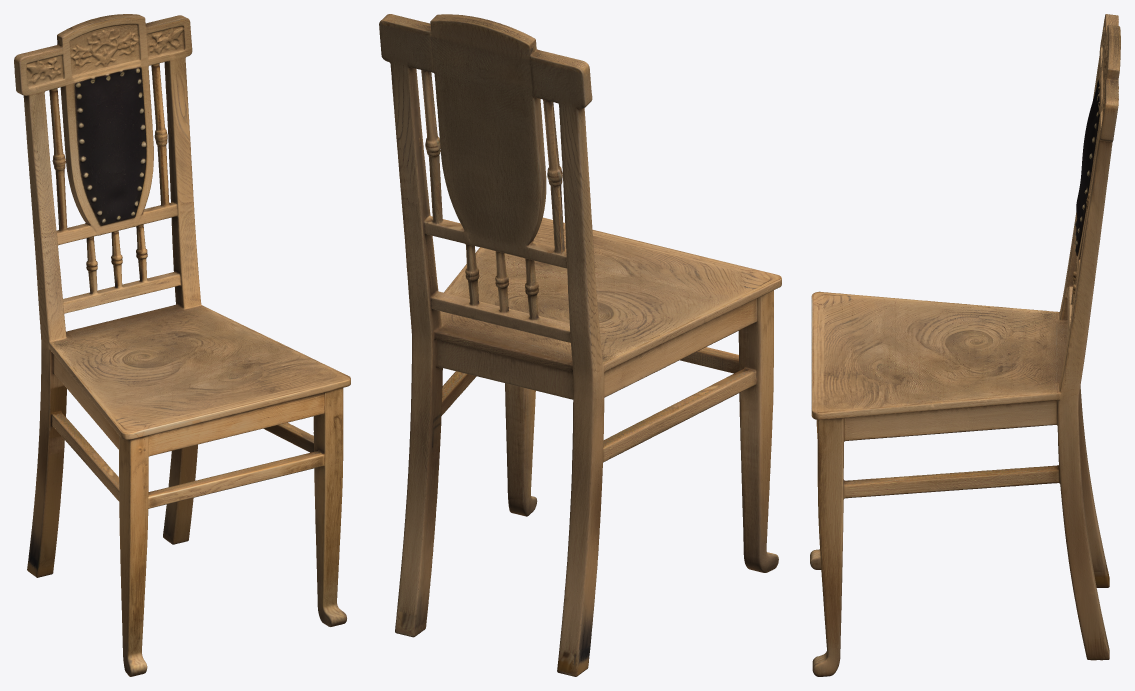
The model's file is stul_derevyannyy_s_rezboy_3d.glb.
3 renders of one model, left to right at view 1: azimuth 30°, elevation 25°; view 2: azimuth 150°, elevation 25°; view 3: azimuth 270°, elevation 25°, orthographic. The views are drawn at different scales.
Size of the model in its own units: 0.8538 by 1.9 by 0.9211.
1 material, 1 textured.
